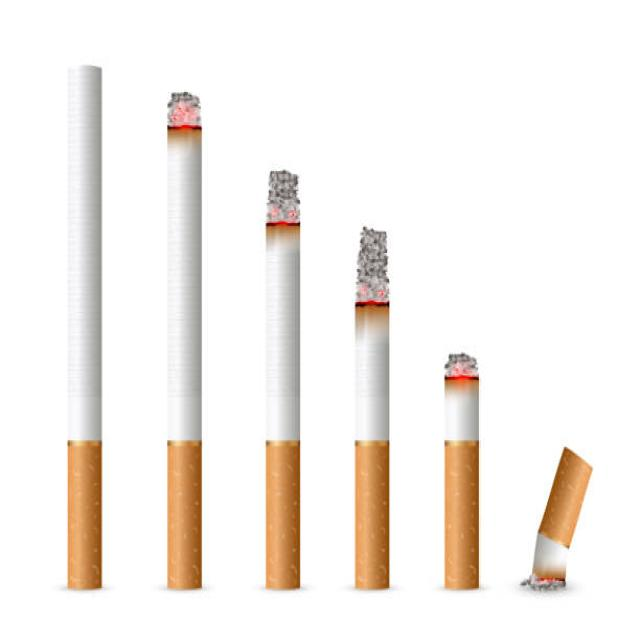Cigarette: (66, 67, 103, 590), (165, 88, 203, 585), (264, 169, 302, 592), (353, 224, 391, 591), (444, 353, 481, 590), (531, 450, 591, 585)
